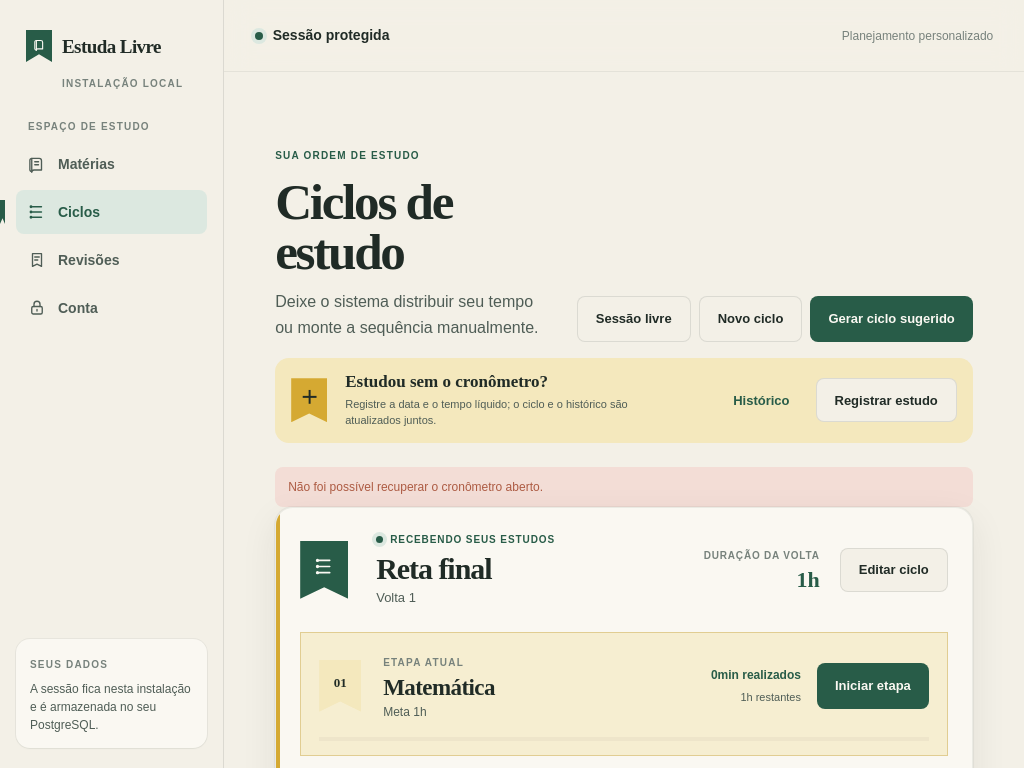
Test: authentication journey › keeps an active cycle editable but prevents saving it without activities
Click the button with aria-label "Editar Reta final" at (894, 570), box [840,548,948,592]
(page scrolled)
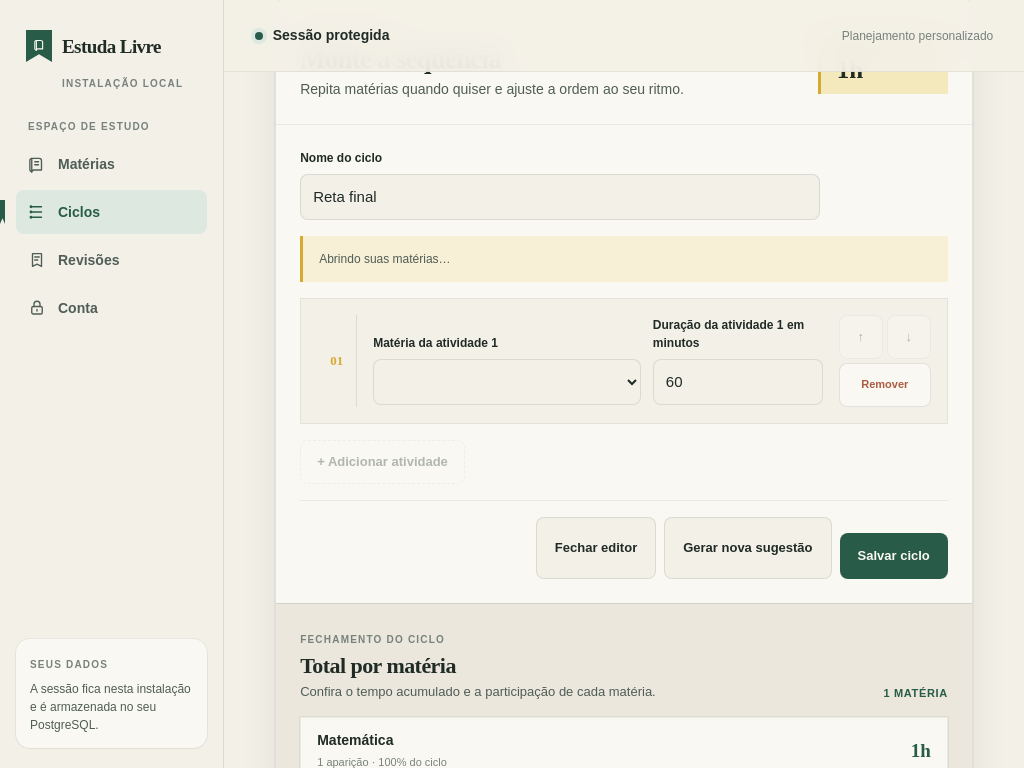
Click the button with aria-label "Remover Matemática" at (885, 385), box [839,363,931,407]
(page scrolled)
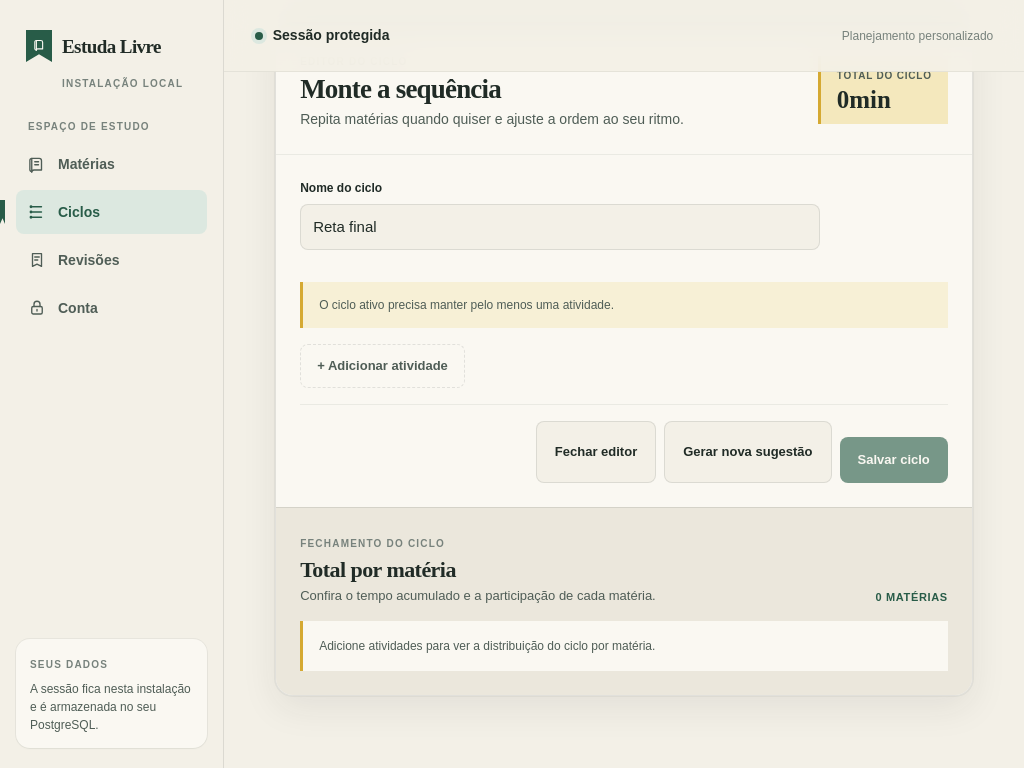
expect the text "O ciclo ativo precisa manter pelo menos uma atividade." is shown: met, box [300,282,948,328]
expect the button "Salvar ciclo" is disabled: met, box [840,437,948,483]
